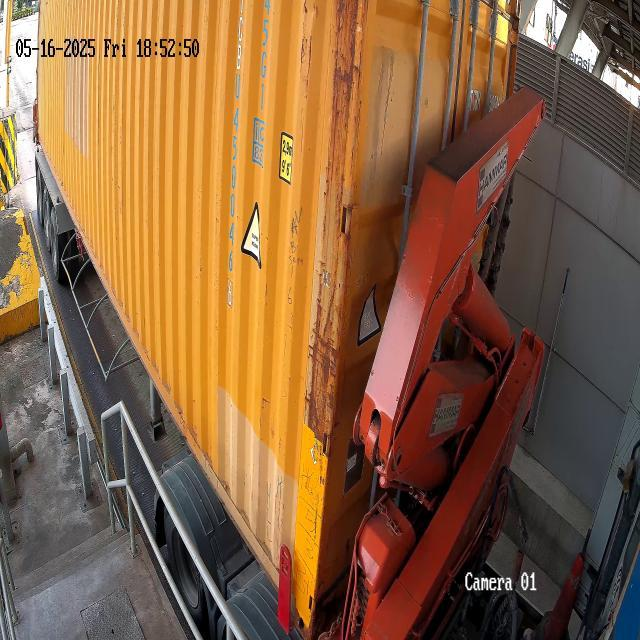ISO: (254, 0, 274, 128)
container_number: (215, 0, 253, 312)
